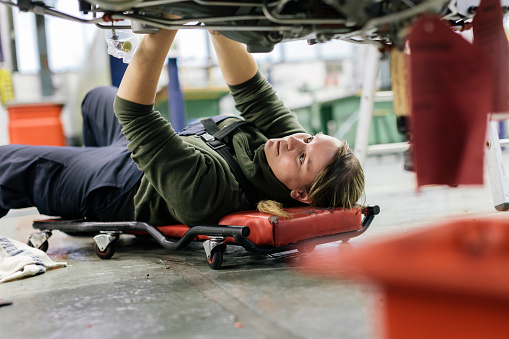deitado: (49, 10, 402, 249)
